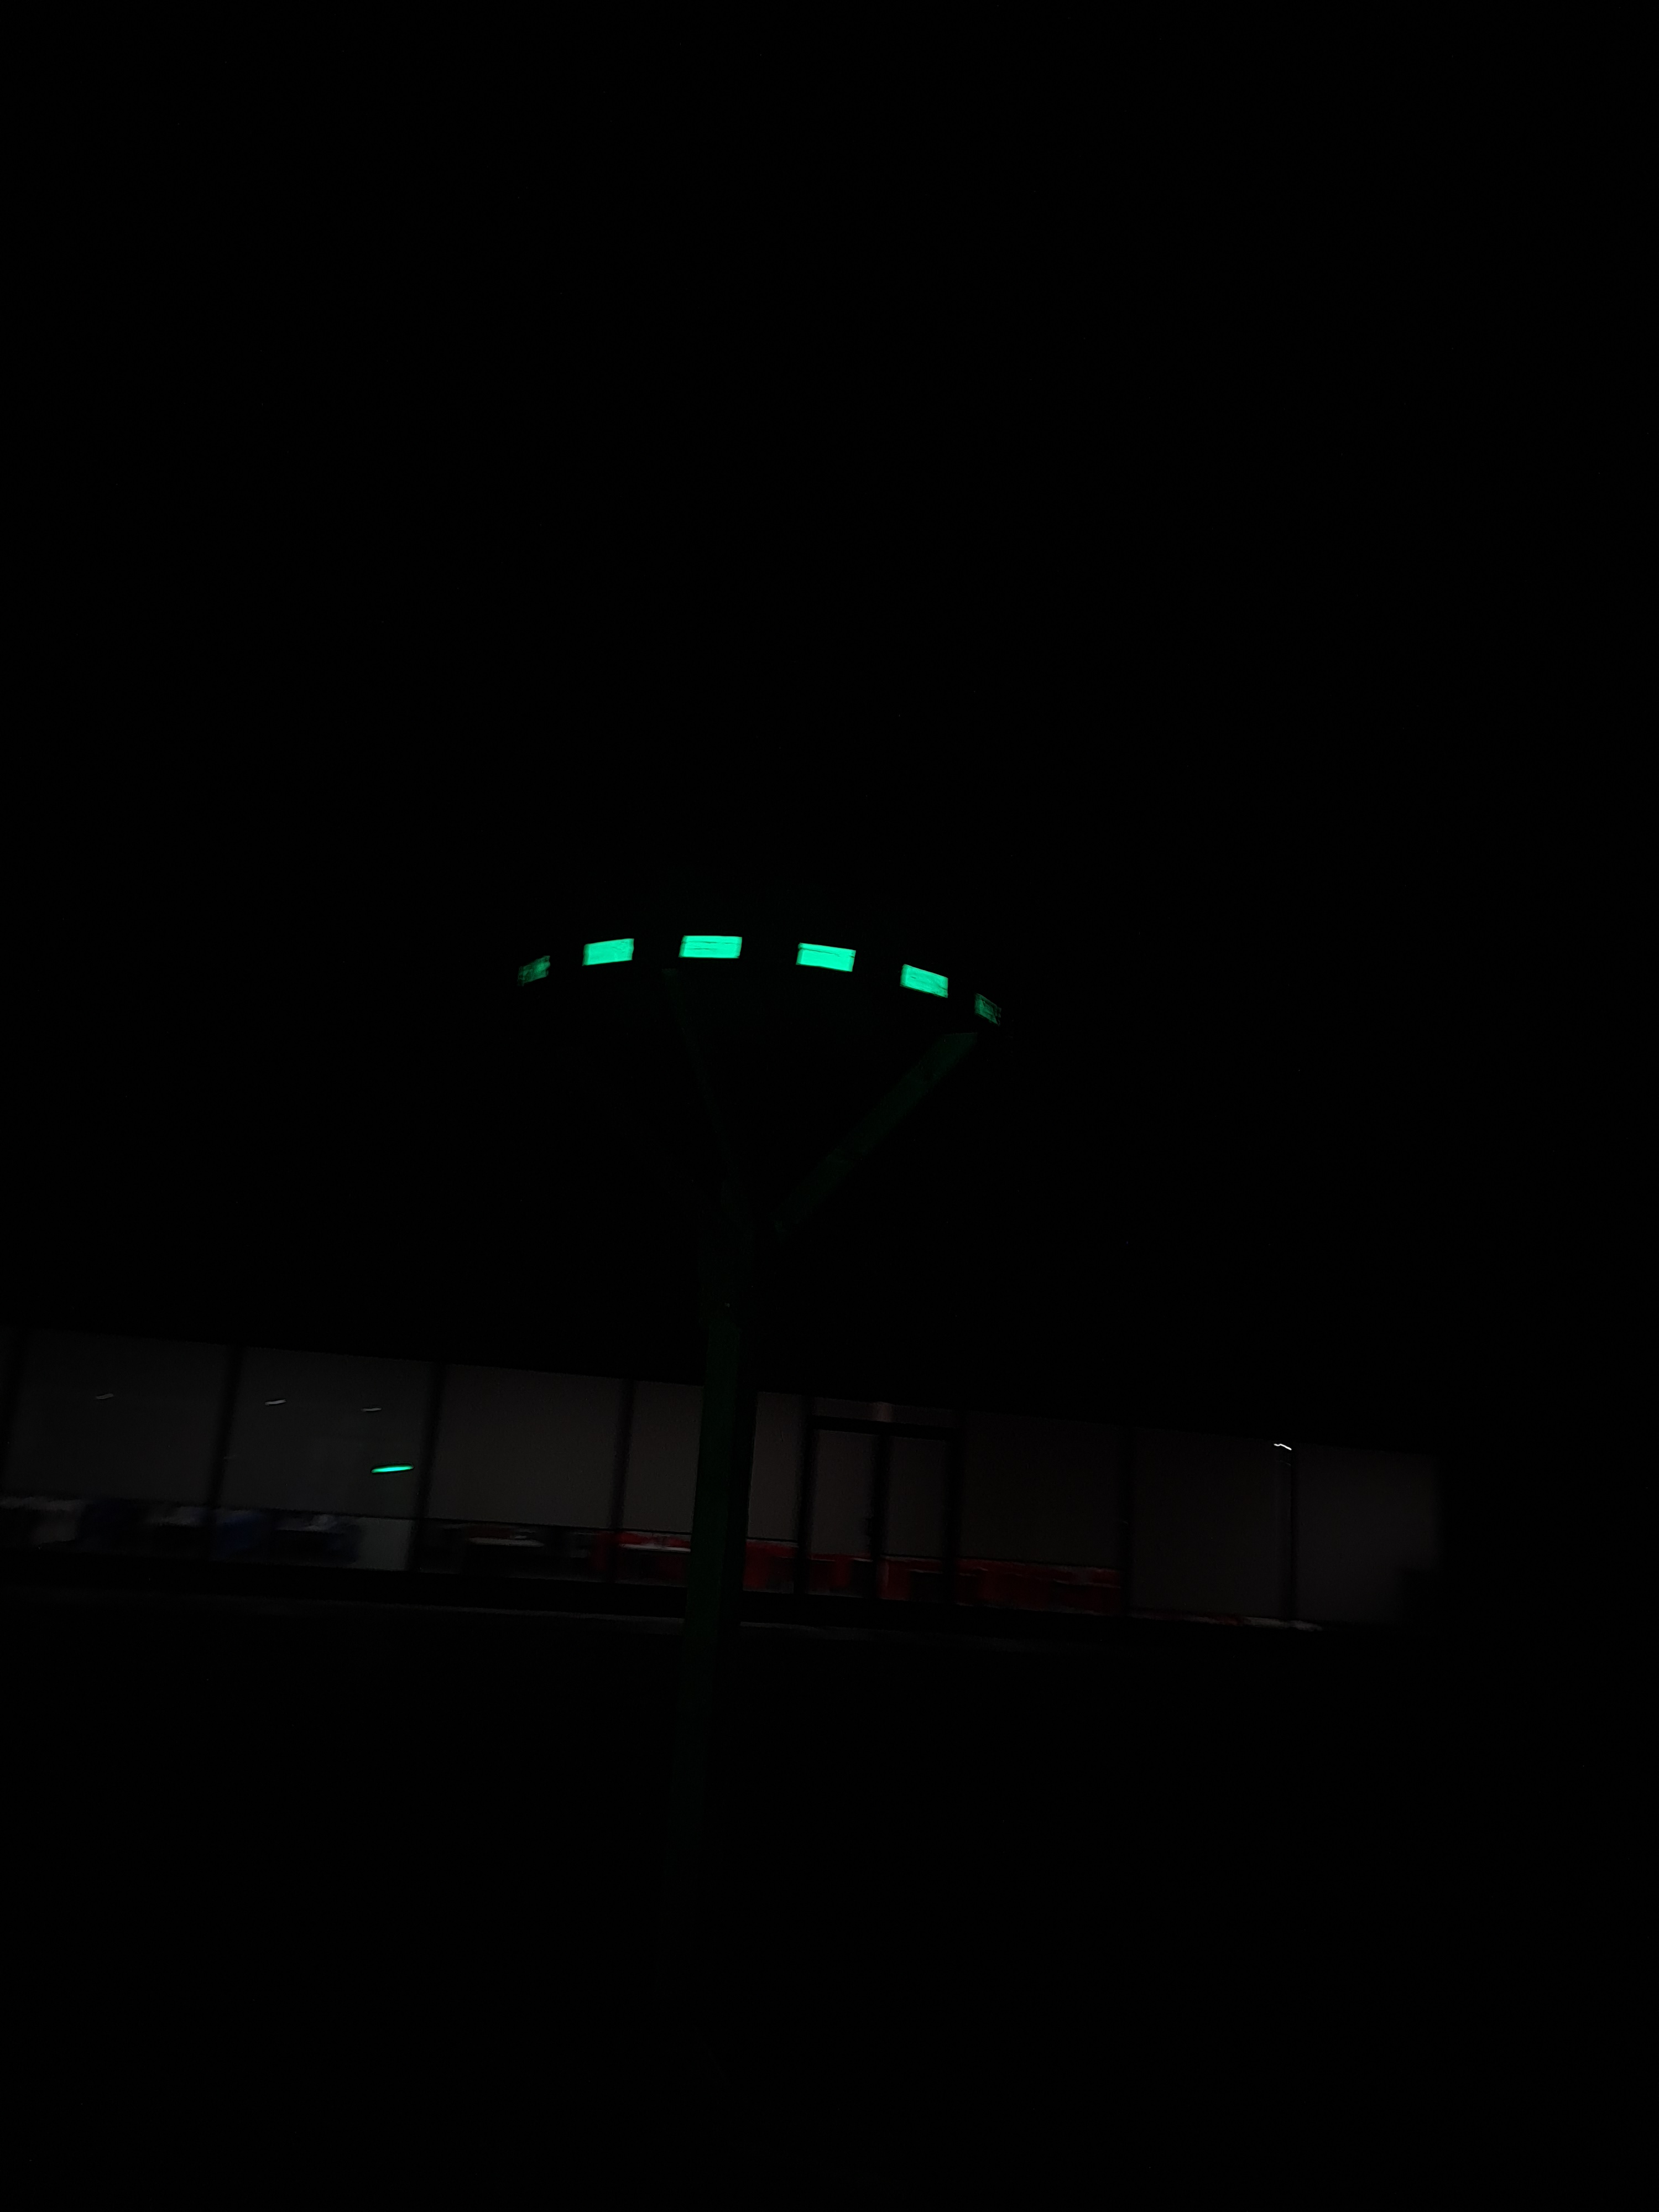hoop: (511, 925, 1009, 1033)
